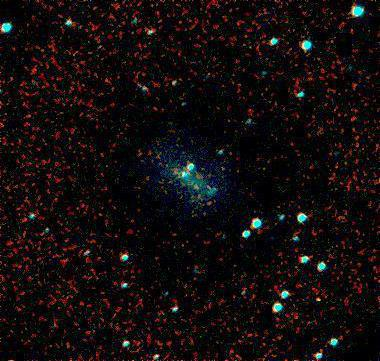star: (303, 283, 333, 313)
